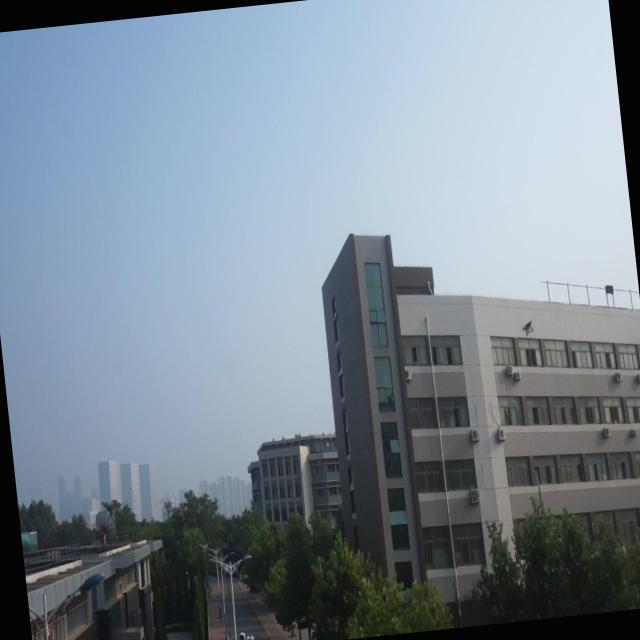drone: (520, 316, 536, 337)
